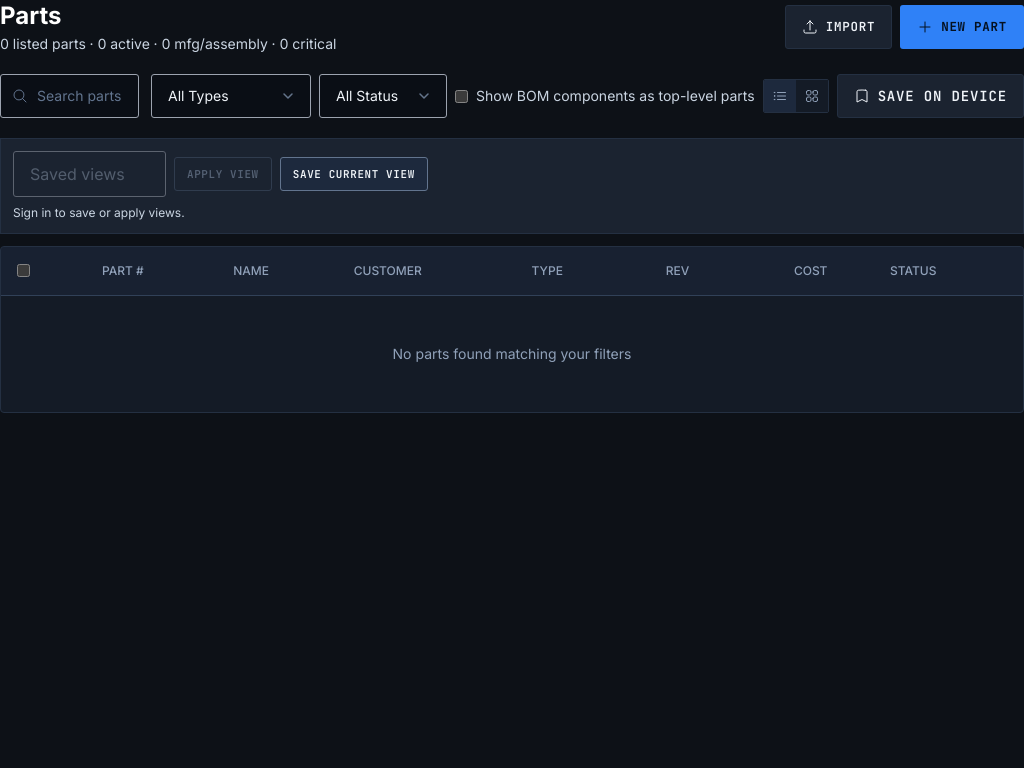
Test: PartsNew save-filter InputDialog › submit persists the filter under the entered trimmed name and closes
Step 1. Click the button "Save on device" → (930, 96), box [837,74,1023,118]
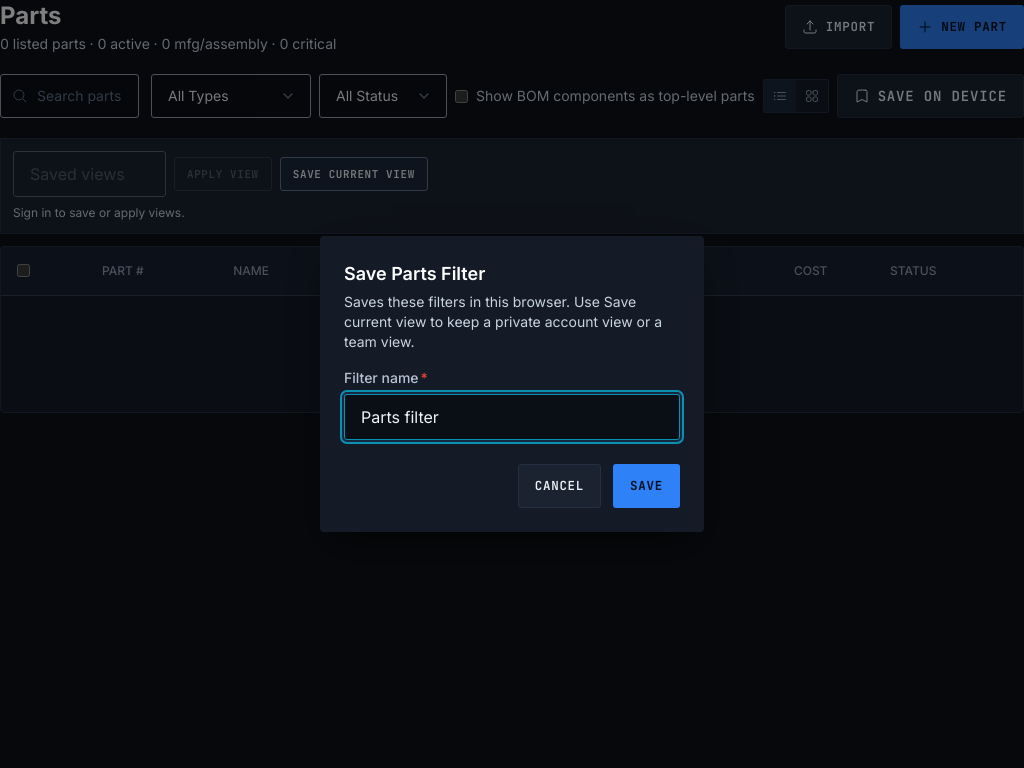
Step 2. Replace the text in the field labelled "Filter name*" with "  Critical turned parts  " → (512, 417), box [344,394,680,440]
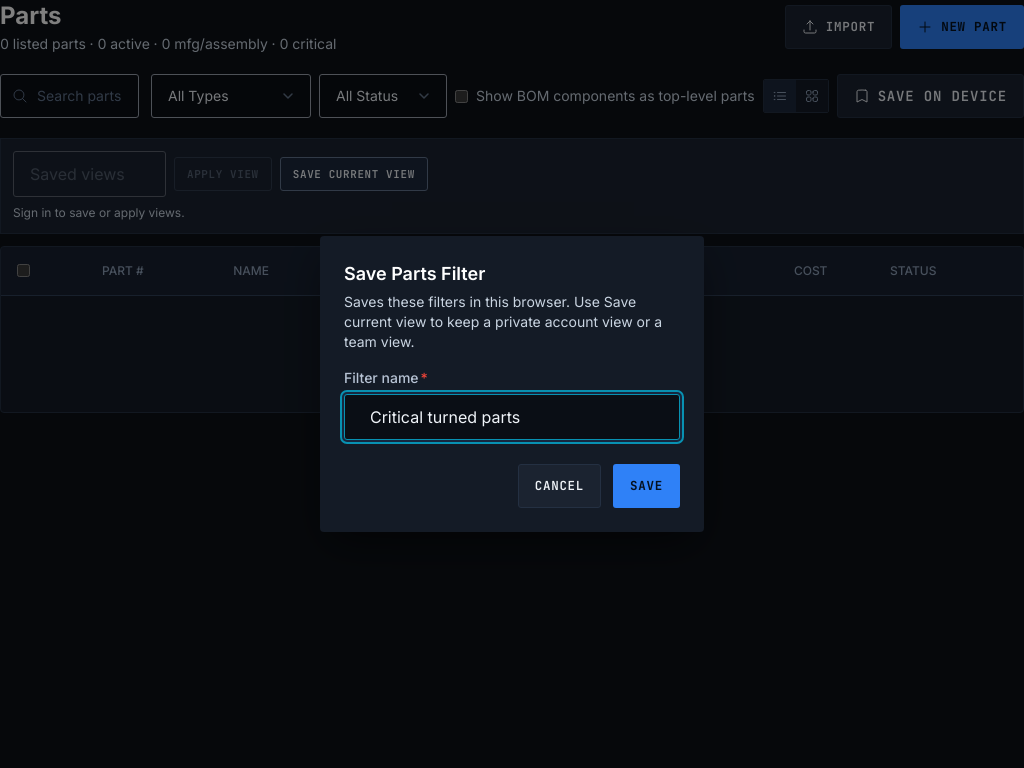
Step 3. Click the button "Save" → (647, 486), box [613,464,680,508]
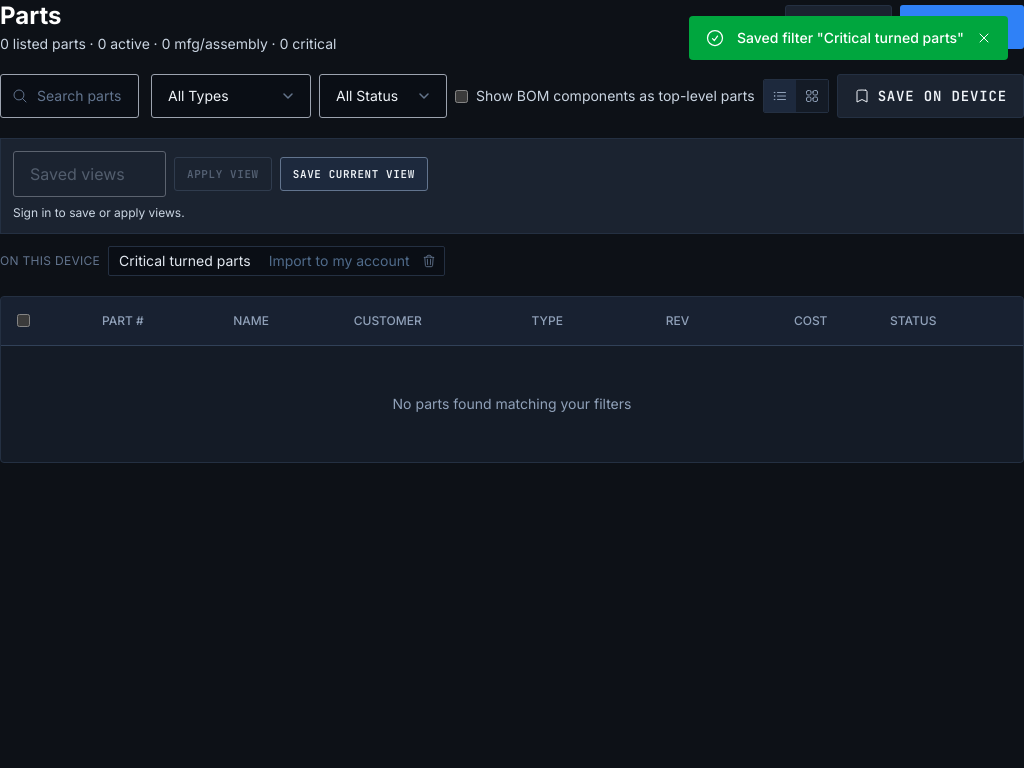
Result: the dialog is gone
Result: the button "Critical turned parts" is shown at [109,247,261,275]
